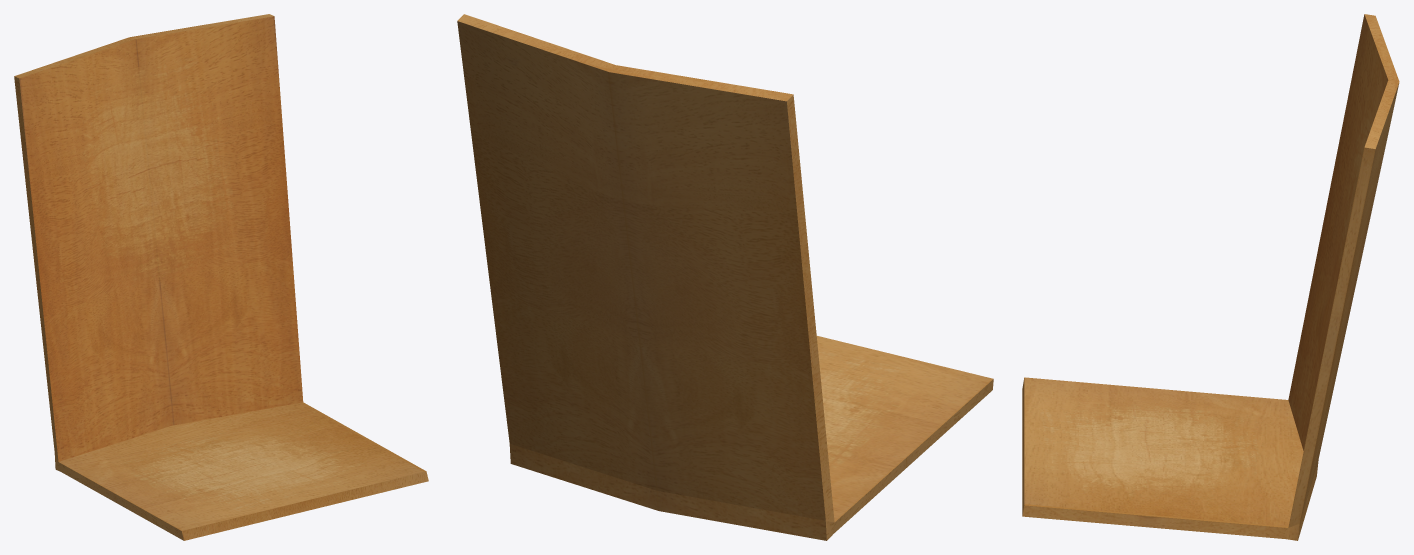
File: Chair_Export 1.fbx
3 renders of one model, left to right at view 1: azimuth 30°, elevation 25°; view 2: azimuth 150°, elevation 25°; view 3: azimuth 270°, elevation 25°, orthographic. The views are drawn at different scales.
Parts seen in each view (by area): view 1: pCube11; view 2: pCube11; view 3: pCube11.
Part boxes in pixels (bbox=[...]): pCube11: bbox=[14, 14, 428, 540]; pCube11: bbox=[457, 14, 993, 540]; pCube11: bbox=[1022, 14, 1399, 540].
Size of the model in its own units: 1.43 by 1.98 by 1.71.
